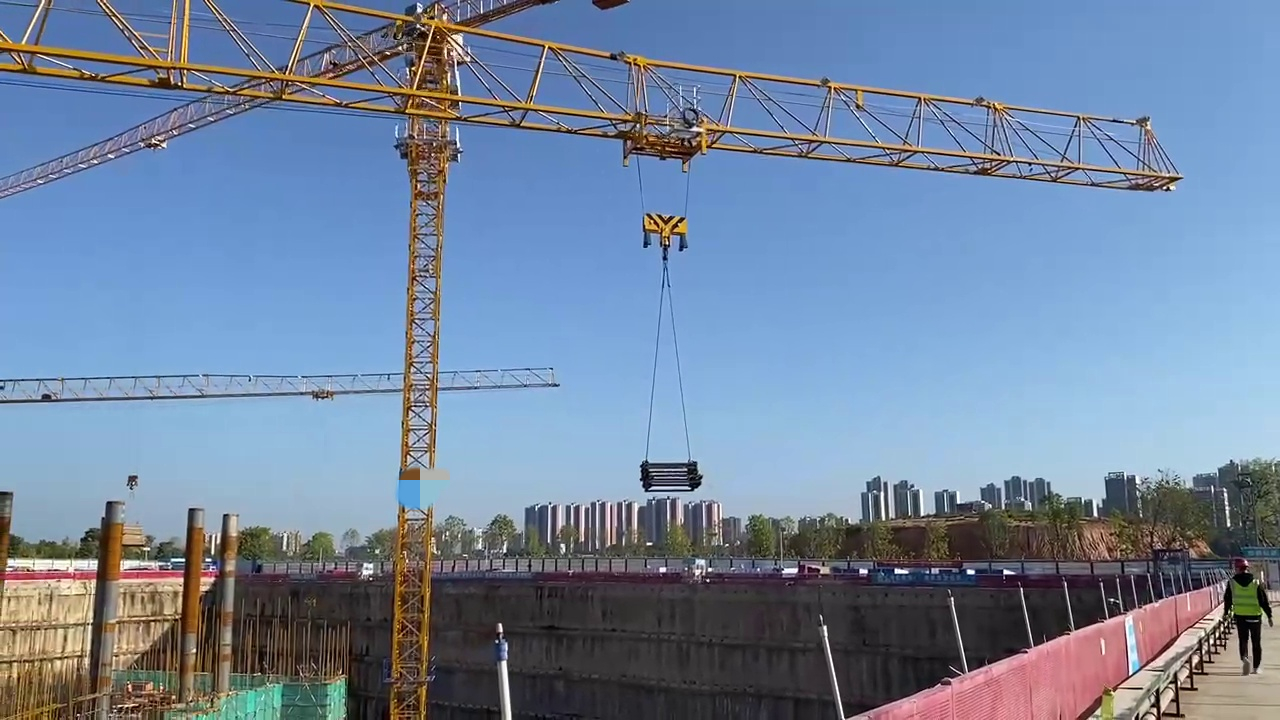fence: (827, 602, 1116, 720), (1121, 583, 1219, 666)
helmet: (1231, 558, 1250, 568)
hook: (641, 210, 691, 250)
person: (1220, 557, 1272, 673)
vest: (1228, 575, 1264, 618)
